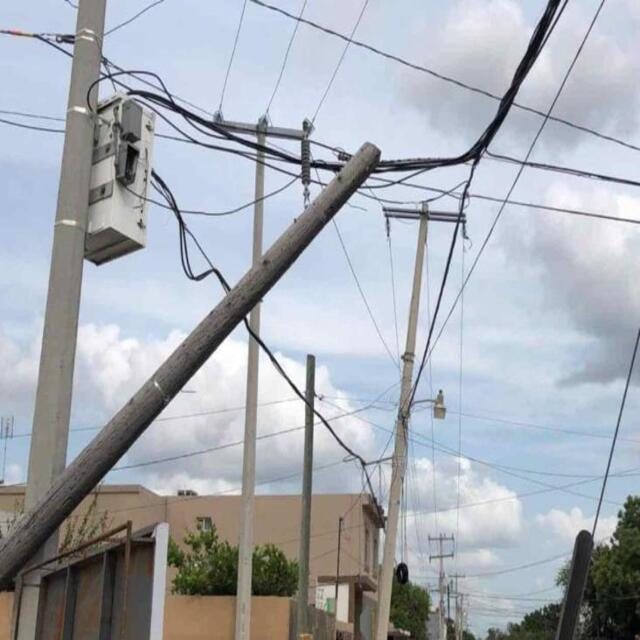Inclined Pole: (0, 131, 388, 587)
